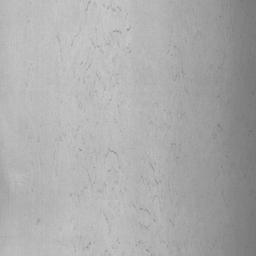Silk spot: (106, 29, 122, 45), (173, 64, 185, 81), (0, 157, 6, 189), (103, 4, 122, 12), (105, 148, 118, 157)
